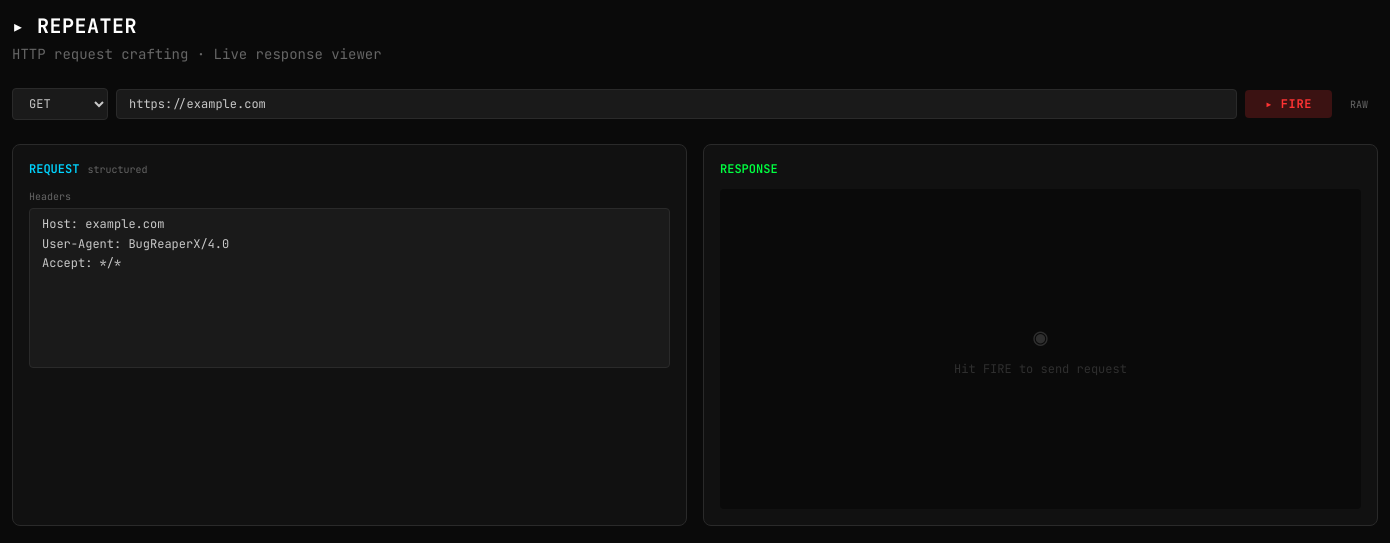
RepeaterPage › shows loading state while sending
The width and height of the screenshot is (1390, 543).
Click the button "▸ FIRE".
click(1289, 104)  # box [1245,90,1332,118]
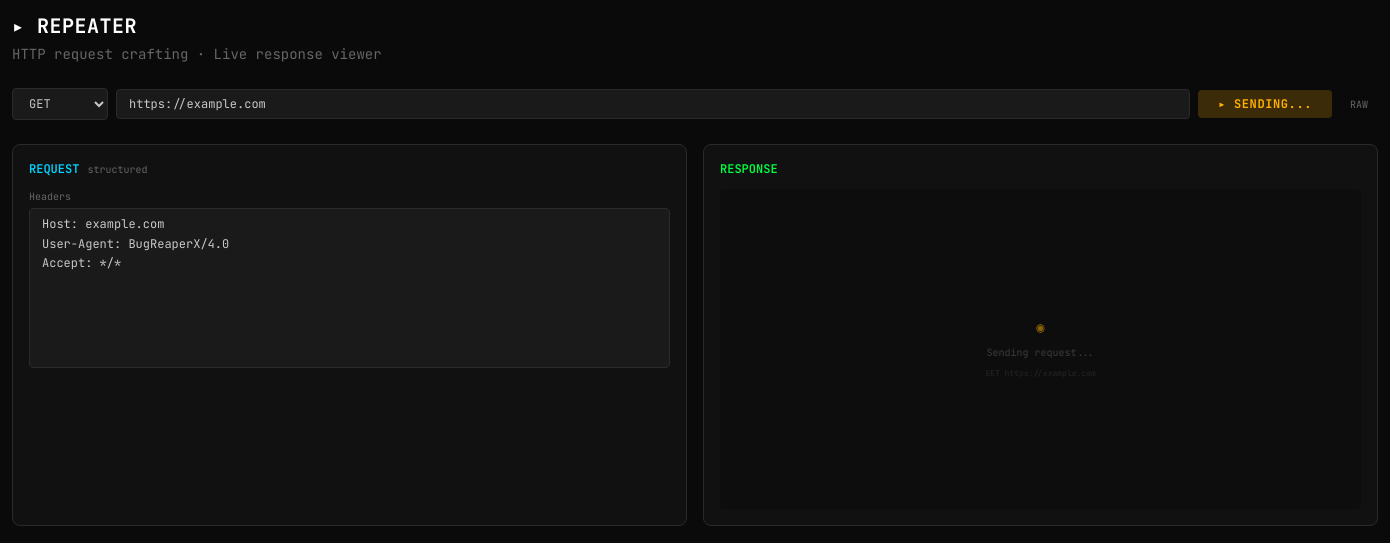
Now the button "▸ SENDING..." is shown, box [1198,90,1332,118]
